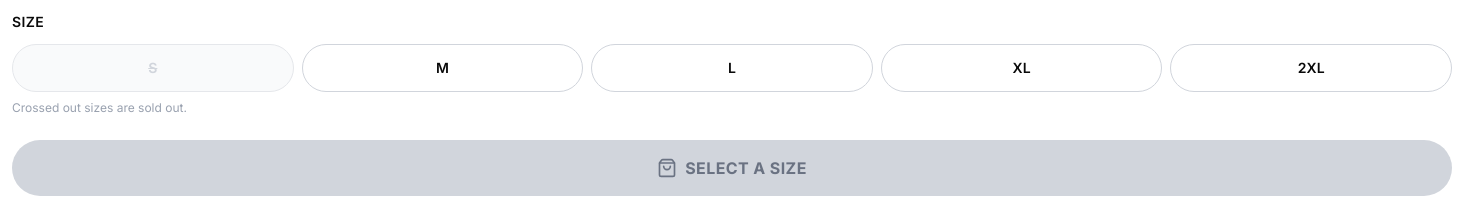
Test: Shop / Cart › shows how many are left when stock is low
The width and height of the screenshot is (1464, 213).
Step 1. Click the button "M" → (442, 68), box [302,44,583,92]
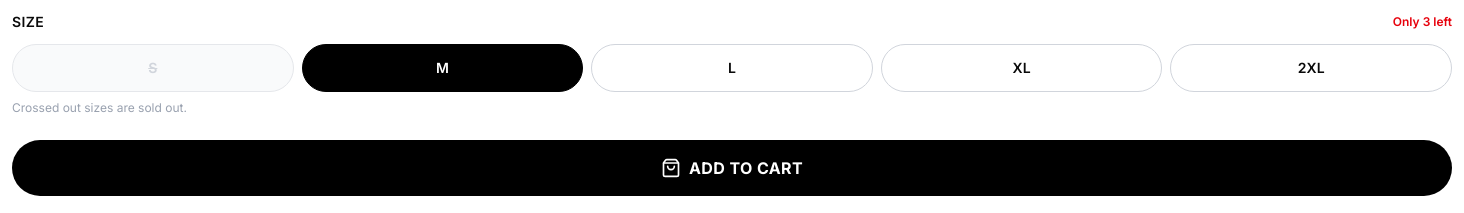
expect the text "Only 3 left" is shown: met, box [1393,14,1452,30]
